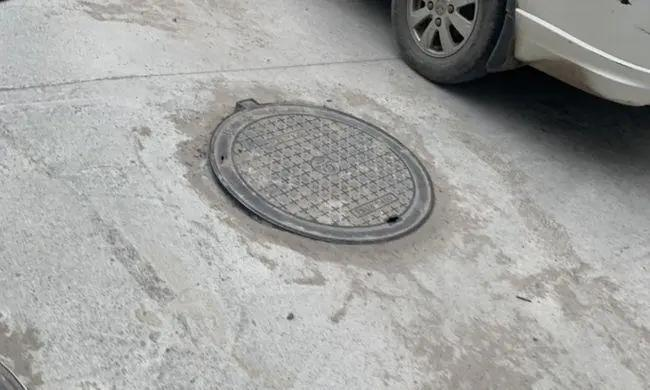wellcover: (195, 91, 442, 251)
